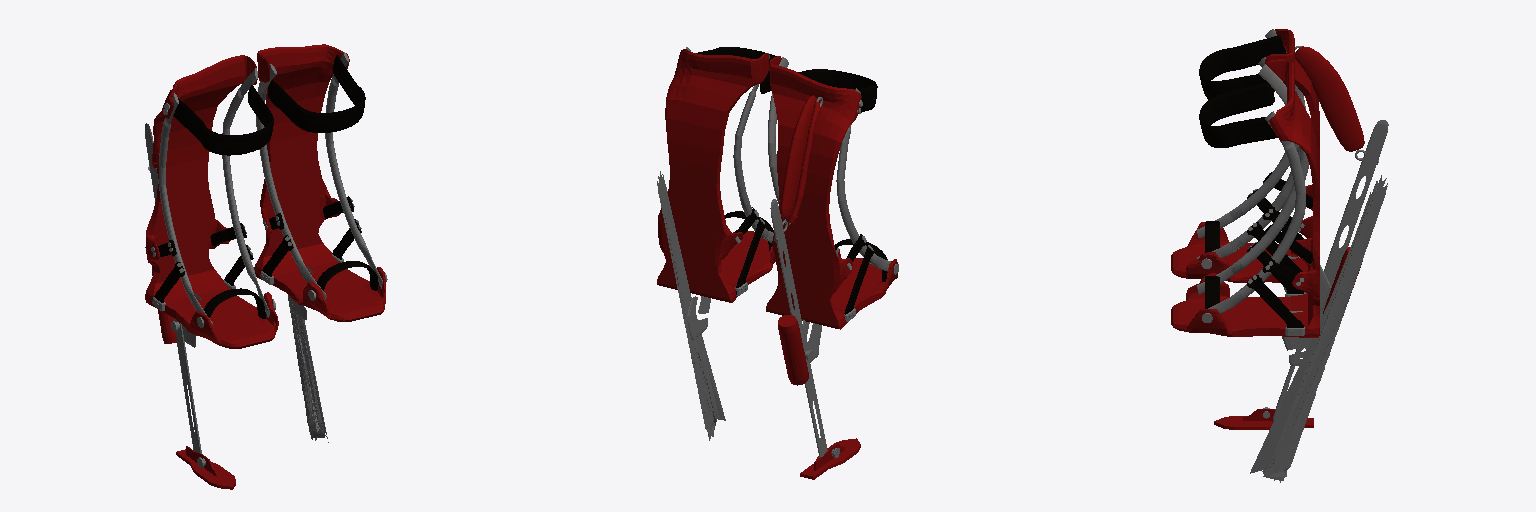
Rendered from astronautaParBotas.obj.
3 renders of one model, left to right at view 1: azimuth 30°, elevation 25°; view 2: azimuth 150°, elevation 25°; view 3: azimuth 270°, elevation 25°, orthographic.
Parts seen in each view (by area): view 1: pCube1 botaResorte, pCube1 botaResorte1, botaResorte1 pCube13, botaResorte pCube13, botaResorte1 pCube9, botaResorte pCylinder3, botaResorte1 pCylinder1, botaResorte pCylinder1, botaResorte pCube10, botaResorte1 pCylinder3, botaResorte pCube11, botaResorte1 pCube8 (+1 smaller); view 2: pCube1 botaResorte1, pCube1 botaResorte, botaResorte1 pCube9, botaResorte pCube10, botaResorte pCylinder24, botaResorte pCylinder23, botaResorte pCube13, botaResorte pCylinder1, botaResorte1 pCylinder3, botaResorte pCylinder3, botaResorte pCylinder27, botaResorte pCube11 (+1 smaller); view 3: pCube1 botaResorte1, botaResorte1 pCube9, pCube1 botaResorte, botaResorte1 pCube13, botaResorte pCylinder24, botaResorte pCube13, botaResorte pCube10, botaResorte1 pCylinder1, botaResorte1 pCylinder3, botaResorte pCylinder1, botaResorte pCylinder3, botaResorte1 pCube2 (+1 smaller).
Part boxes in pixels (bbox=[...]): pCube1 botaResorte: bbox=[145, 55, 278, 348]; pCube1 botaResorte1: bbox=[254, 44, 385, 321]; botaResorte1 pCube13: bbox=[268, 55, 365, 132]; botaResorte pCube13: bbox=[173, 85, 273, 155]; botaResorte1 pCube9: bbox=[264, 127, 328, 442]; botaResorte pCylinder3: bbox=[222, 68, 269, 317]; botaResorte1 pCylinder1: bbox=[325, 52, 382, 288]; botaResorte pCylinder1: bbox=[158, 93, 212, 324]; botaResorte pCube10: bbox=[145, 123, 201, 453]; botaResorte1 pCylinder3: bbox=[256, 64, 326, 299]; botaResorte pCube11: bbox=[176, 449, 235, 489]; botaResorte1 pCube8: bbox=[317, 261, 378, 290]; pCube1 botaResorte1: bbox=[657, 49, 775, 302]; pCube1 botaResorte: bbox=[766, 56, 897, 329]; botaResorte1 pCube9: bbox=[657, 171, 725, 440]; botaResorte pCube10: bbox=[770, 199, 827, 457]; botaResorte pCylinder24: bbox=[780, 95, 816, 218]; botaResorte pCylinder23: bbox=[778, 315, 808, 385]; botaResorte pCube13: bbox=[798, 69, 877, 113]; botaResorte pCylinder1: bbox=[836, 88, 890, 271]; botaResorte1 pCylinder3: bbox=[733, 53, 773, 242]; botaResorte pCylinder3: bbox=[768, 57, 838, 256]; botaResorte pCylinder27: bbox=[788, 102, 819, 223]; botaResorte pCube11: bbox=[800, 438, 860, 479]; pCube1 botaResorte1: bbox=[1171, 59, 1319, 337]; botaResorte1 pCube9: bbox=[1250, 175, 1387, 482]; pCube1 botaResorte: bbox=[1171, 29, 1319, 282]; botaResorte1 pCube13: bbox=[1199, 83, 1277, 147]; botaResorte pCylinder24: bbox=[1295, 46, 1364, 151]; botaResorte pCube13: bbox=[1199, 35, 1286, 99]; botaResorte pCube10: bbox=[1273, 120, 1388, 420]; botaResorte1 pCylinder1: bbox=[1208, 111, 1305, 313]; botaResorte1 pCylinder3: bbox=[1197, 64, 1308, 294]; botaResorte pCylinder1: bbox=[1197, 29, 1305, 237]; botaResorte pCylinder3: bbox=[1197, 57, 1304, 258]; botaResorte1 pCube2: bbox=[1247, 275, 1303, 327].
Size of the model in its own units: 1.14 by 2.33 by 1.15.